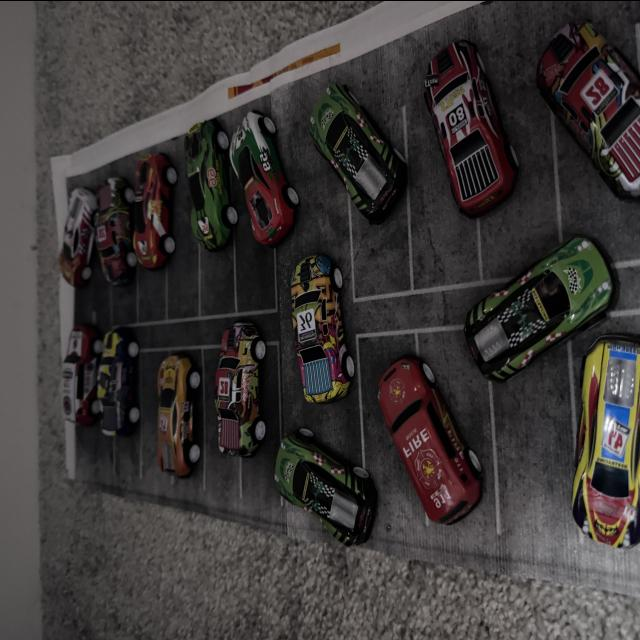Car: (550, 0, 640, 264), (312, 26, 414, 258), (419, 28, 527, 240), (284, 195, 376, 422), (370, 362, 474, 545), (449, 276, 618, 382), (113, 63, 189, 289), (580, 329, 640, 583), (234, 99, 308, 279), (273, 415, 363, 541), (210, 318, 272, 496), (182, 101, 242, 263), (90, 147, 136, 336), (102, 308, 144, 450), (54, 324, 100, 448), (46, 174, 96, 288), (159, 339, 191, 502)
